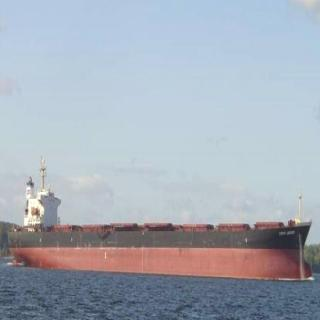Bulk Carrier: (2, 216, 317, 286)
